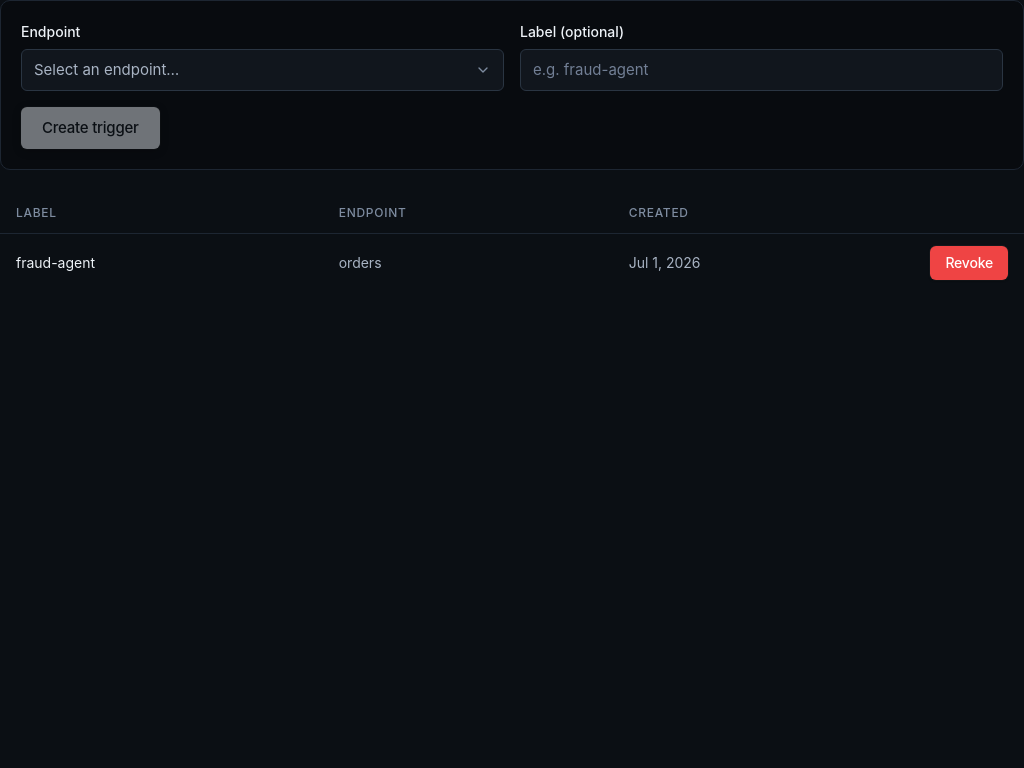
Scenario: AgentTriggersManager › keeps the row and shows the failure inside the dialog when revoke fails
Click the button "Revoke": (969, 263) left=930, top=246, right=1008, bottom=280
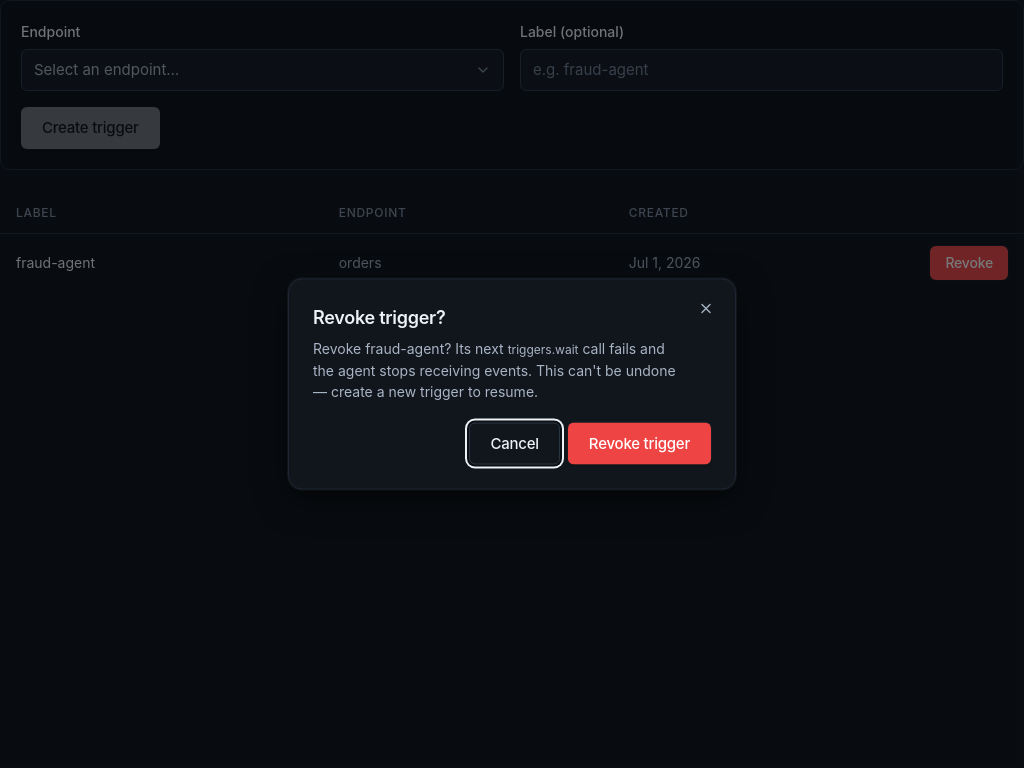
Click the button "Revoke trigger": (639, 444) left=568, top=422, right=711, bottom=464
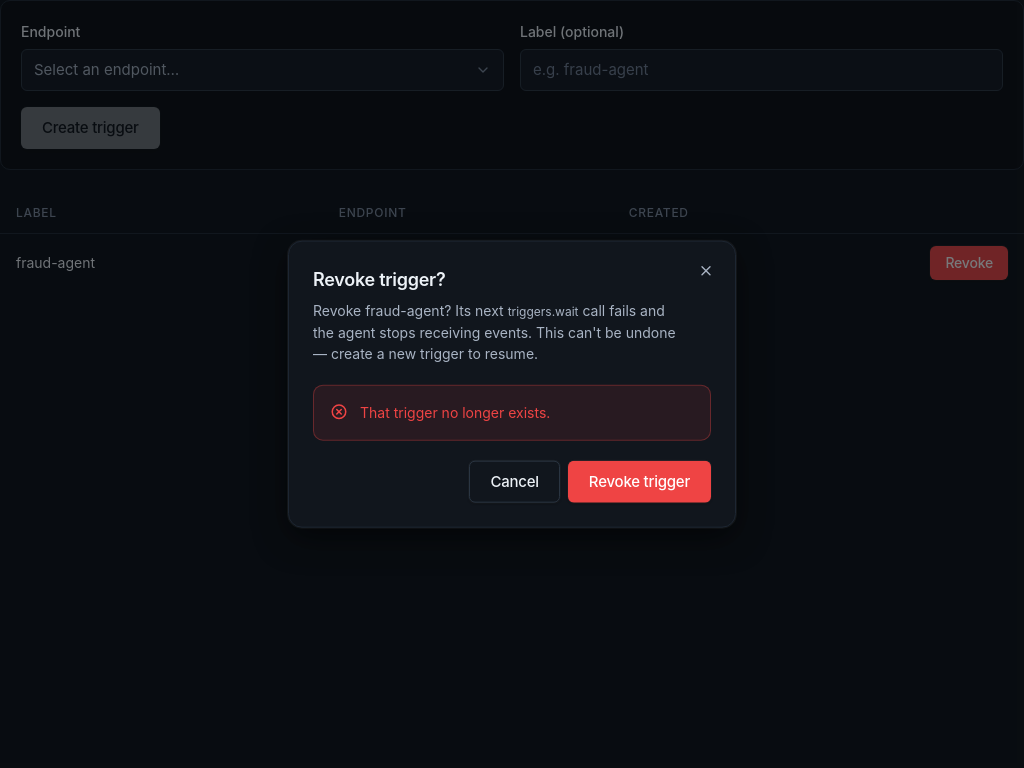
Expected: the text "fraud-agent" is shown, left=0, top=234, right=323, bottom=292
Now the text "That trigger no longer exists." is shown, box left=360, top=404, right=550, bottom=421
